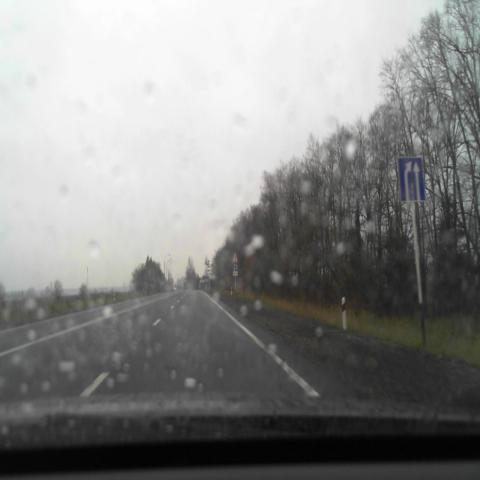5_15_5: (398, 157, 425, 201)
